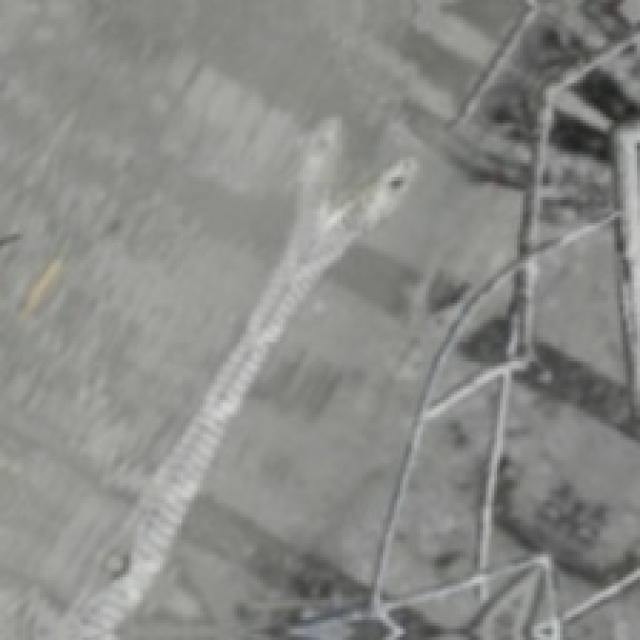king cobra: (0, 0, 637, 637), (34, 117, 417, 637), (394, 389, 494, 591)
